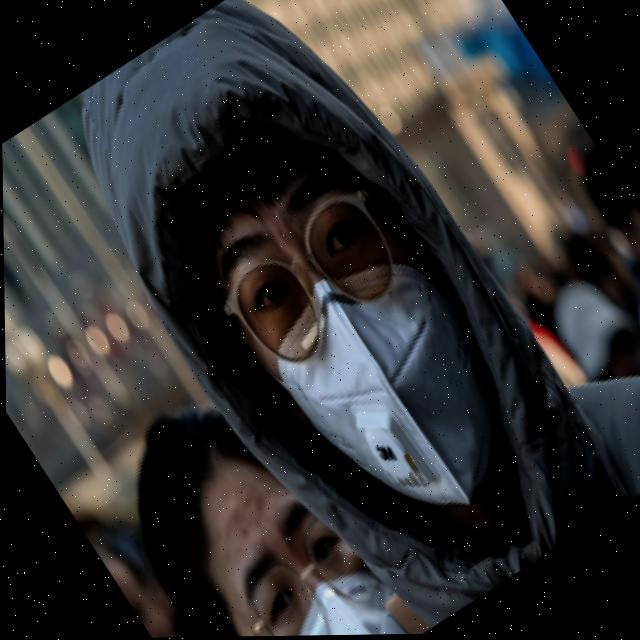Mask: (245, 231, 571, 564), (235, 549, 421, 637)
